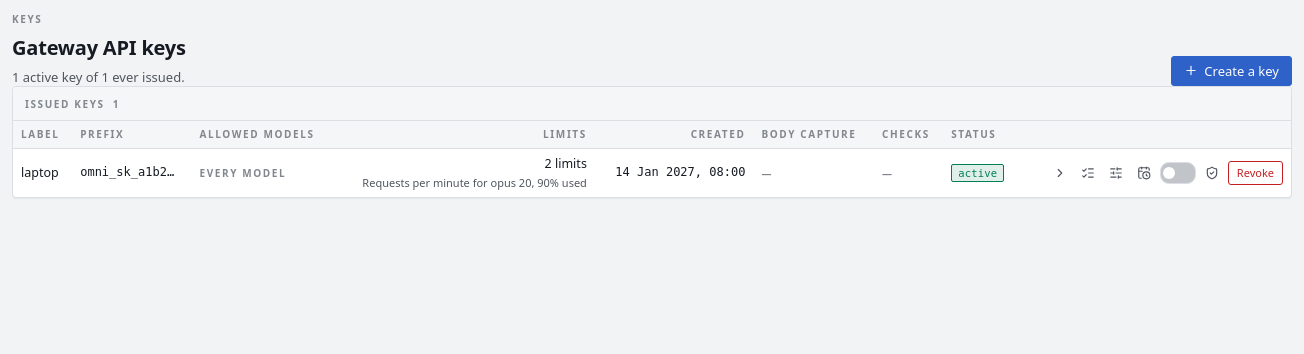
Test: KeysBoard › the matrix groups an override's readings under its model
Click the button named "Show limits for laptop" at (1060,173), box x1=1048 y1=161 x2=1072 y2=185
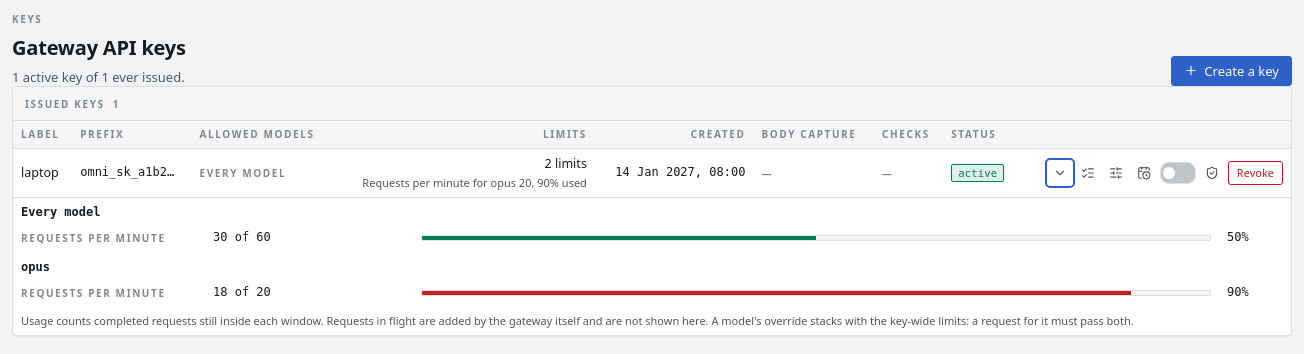
Now the element named "laptop, Requests per minute, 50% used" is shown, box x1=421 y1=235 x2=1211 y2=241
Now the element named "laptop, opus, Requests per minute, 90% used" is shown, box x1=421 y1=290 x2=1211 y2=296
